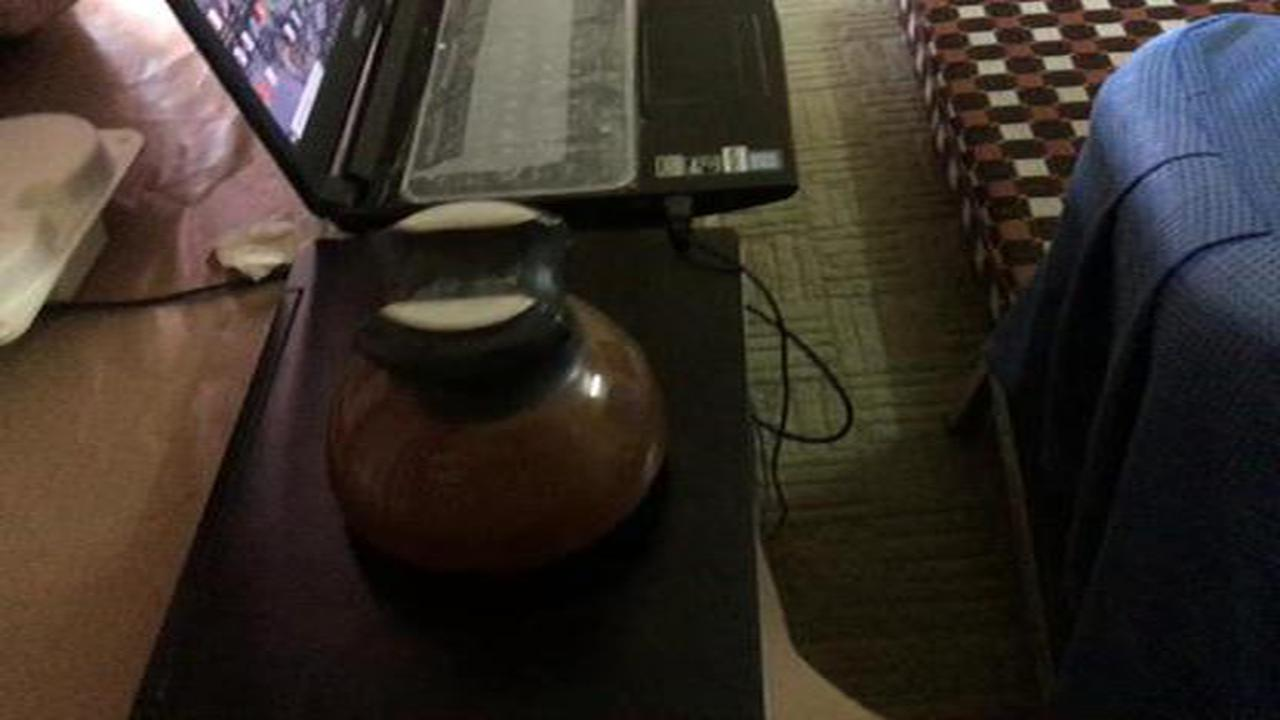insulator_pin: (311, 184, 696, 598)
